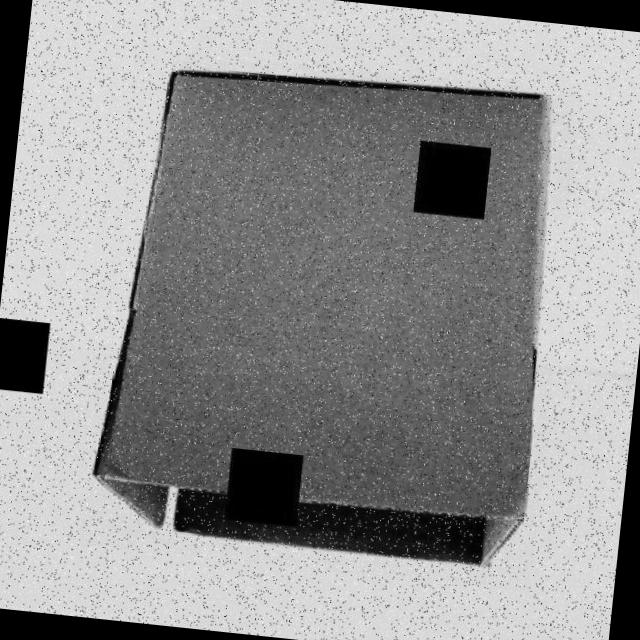box: (80, 43, 582, 590)
